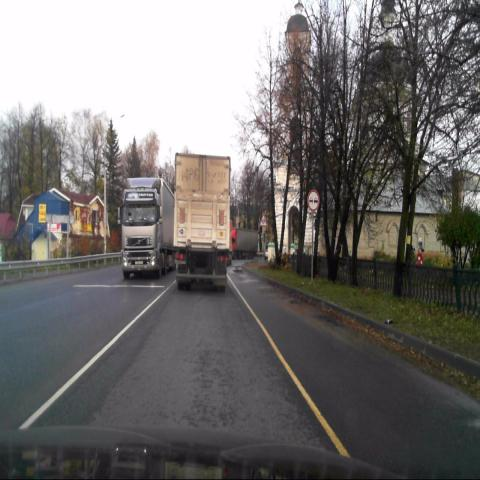3_20: (307, 189, 320, 210)
